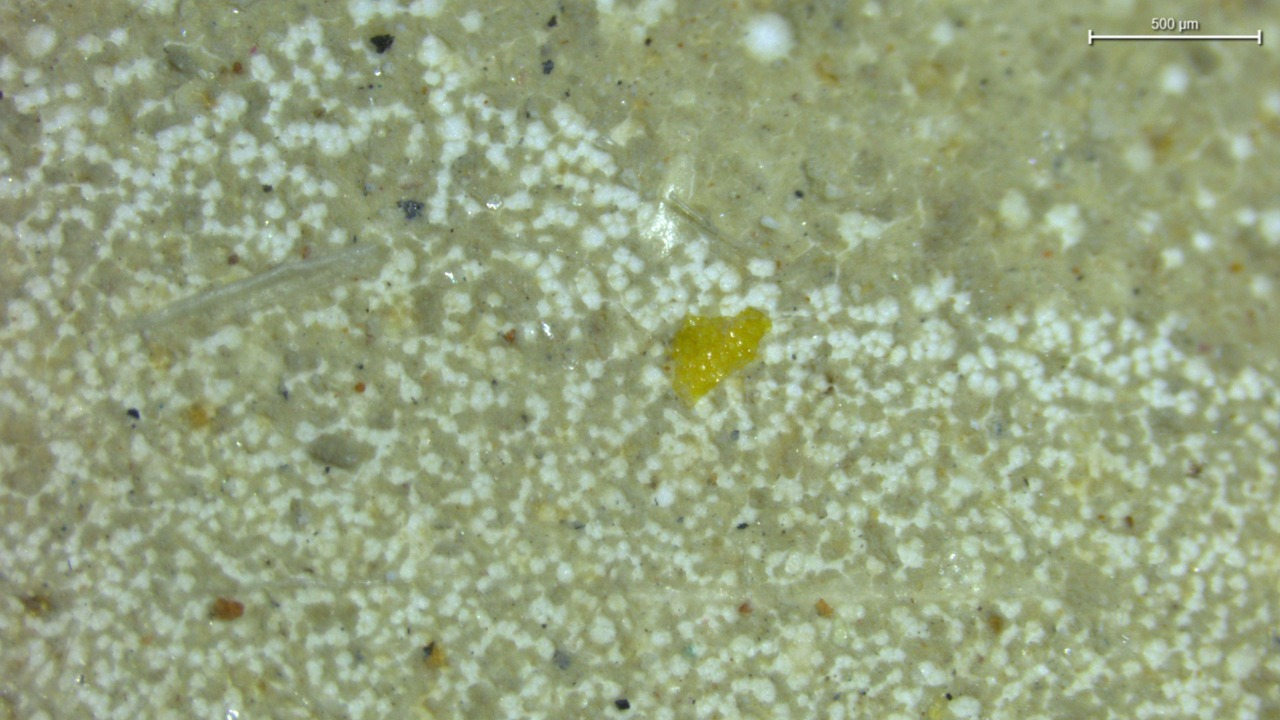microplastic_fragment: (670, 308, 771, 407)
